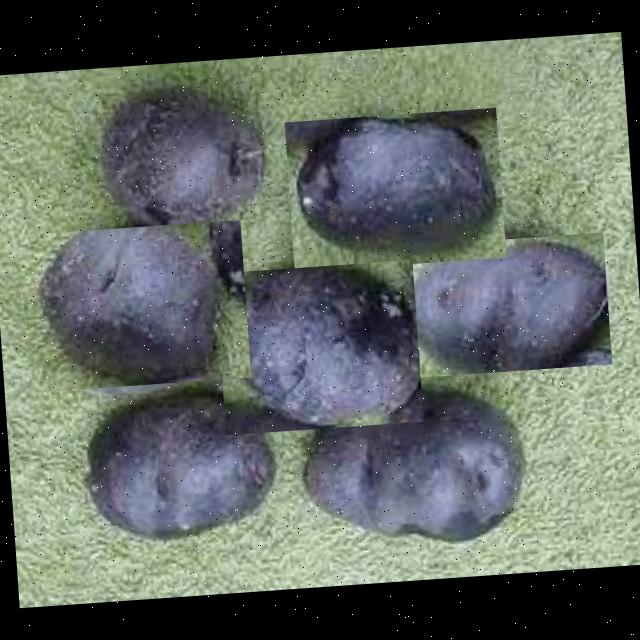Defected potato: (294, 388, 536, 558), (18, 220, 250, 392), (284, 108, 506, 272), (214, 260, 423, 434), (403, 232, 612, 378), (81, 394, 281, 546), (94, 83, 279, 240)
